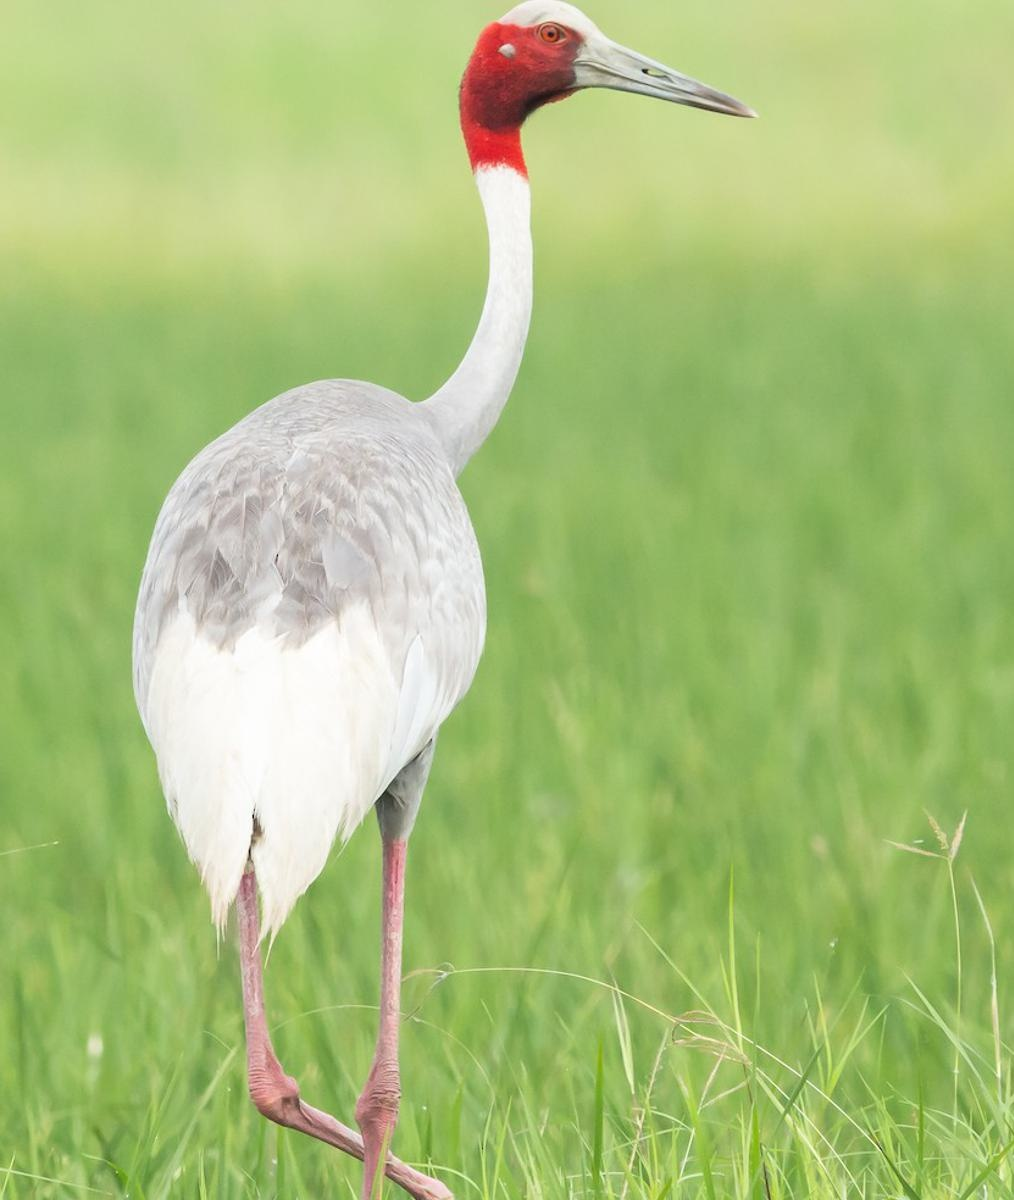crane: (134, 8, 713, 1193)
